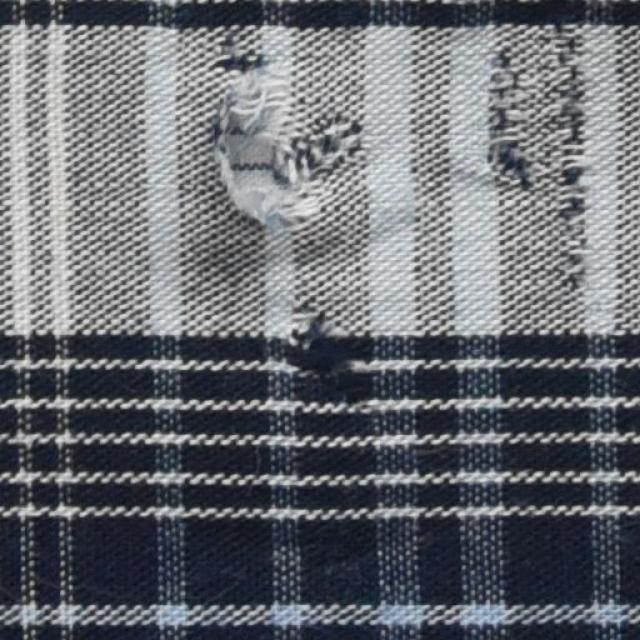Hole: (213, 113, 270, 205)
Snag: (545, 30, 599, 281), (272, 296, 369, 395), (468, 48, 530, 191), (276, 119, 361, 201), (206, 33, 281, 112)
